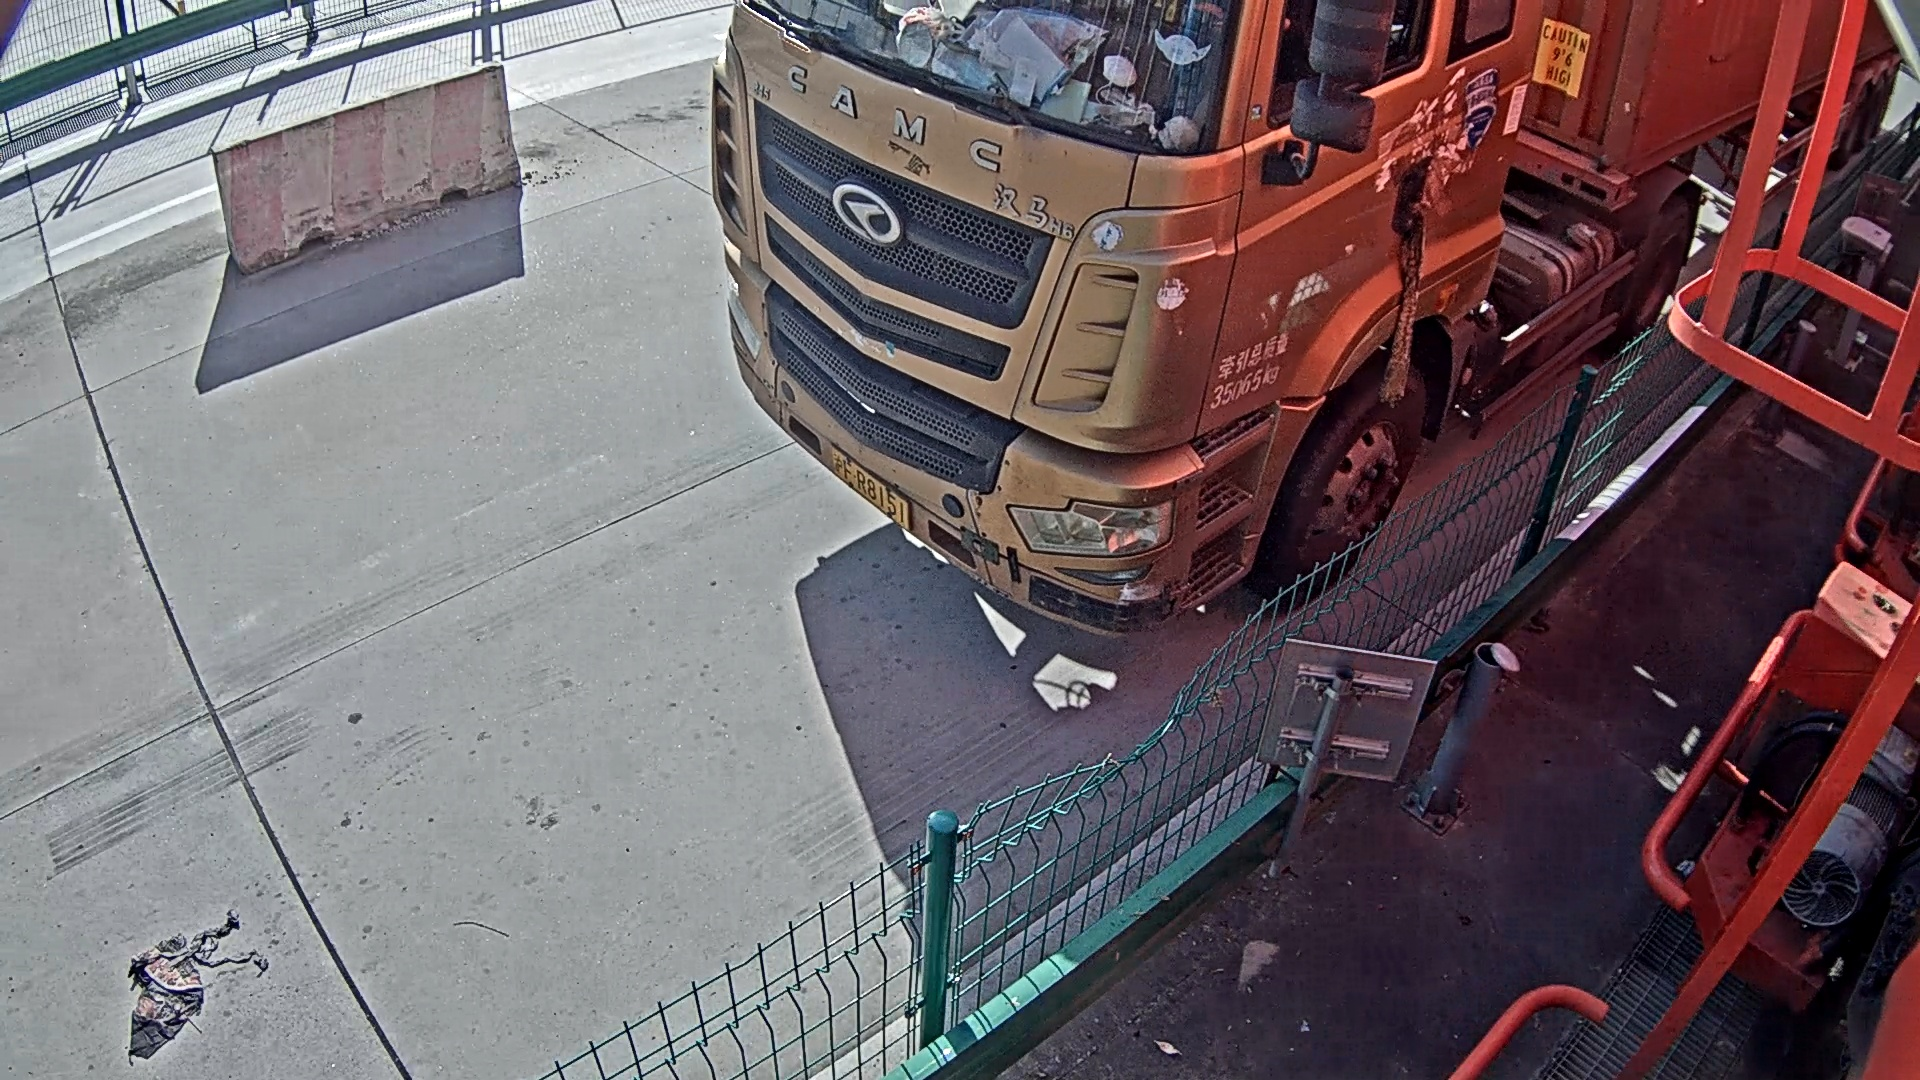head: (709, 1, 1524, 628)
plate: (826, 436, 914, 534)
